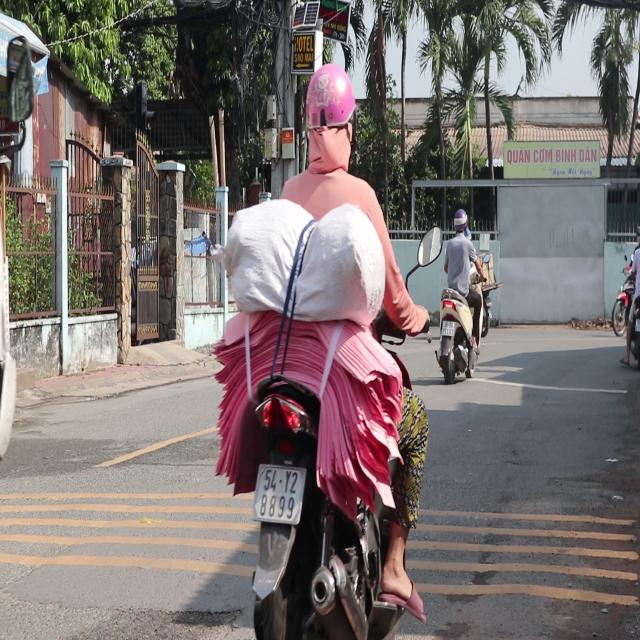helmet: (300, 62, 356, 170)
licenseplate: (208, 63, 434, 632)
nohelmet: (252, 464, 304, 521)
